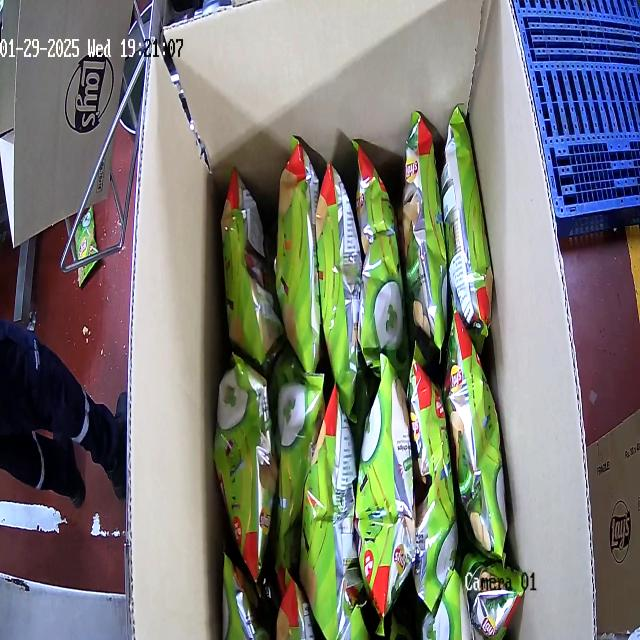YOGURT_HERB: (212, 105, 528, 638)
